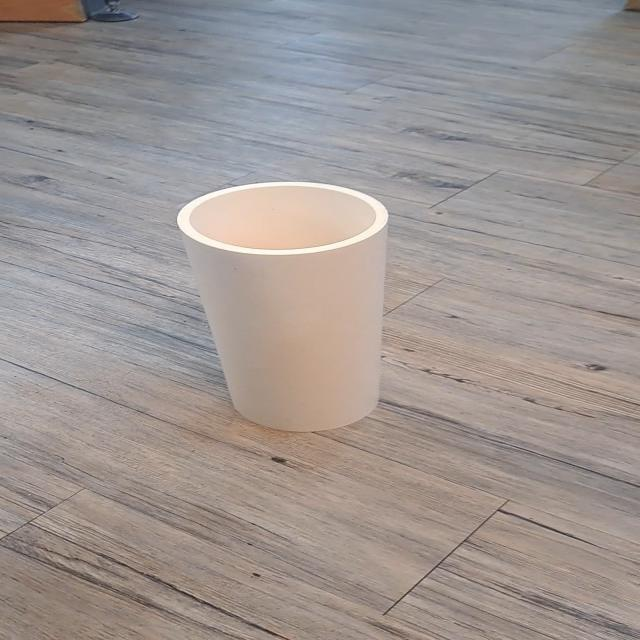CORAL: (134, 164, 480, 446)
